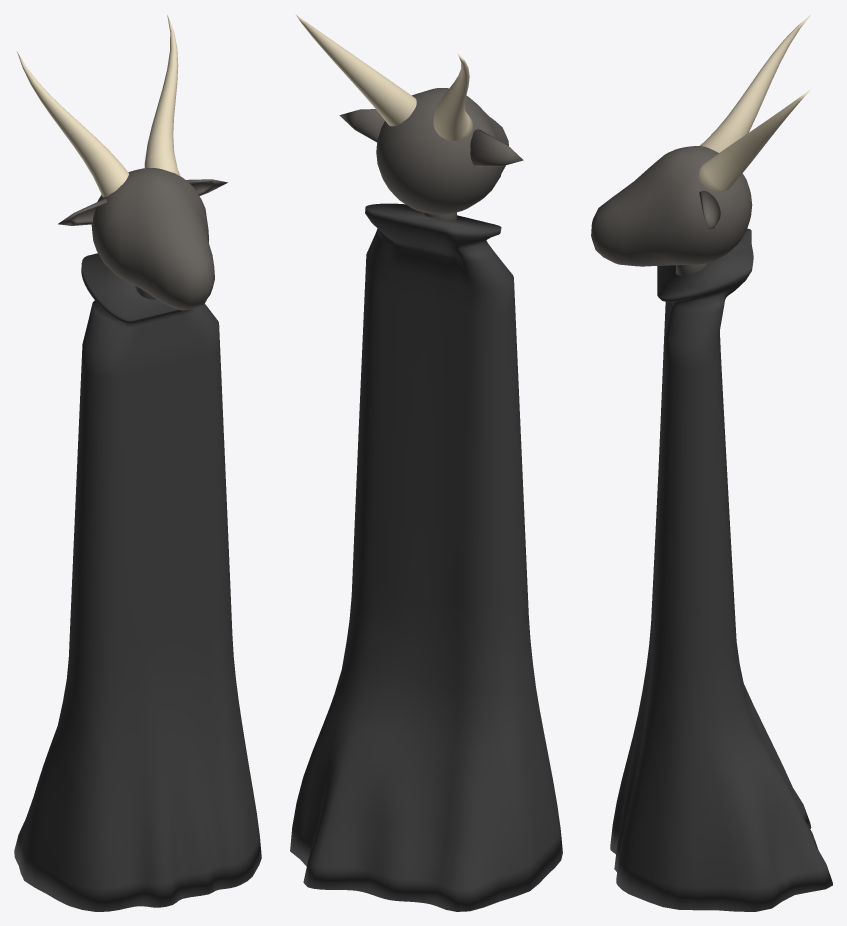
File: PlayerAnomaly.fbx
3 renders of one model, left to right at view 1: azimuth 30°, elevation 25°; view 2: azimuth 150°, elevation 25°; view 3: azimuth 270°, elevation 25°, orthographic. The views are drawn at different scales.
Visible parts, largest first — view 1: Coat, Head, Horn, Ears; view 2: Coat, Head, Horn, Ears; view 3: Coat, Head, Horn, Ears.
Boxes of the visible parts, left/top/right/bottom form: Coat: left=14, top=253, right=261, bottom=911; Head: left=91, top=168, right=214, bottom=310; Horn: left=17, top=15, right=180, bottom=196; Ears: left=58, top=179, right=227, bottom=225; Coat: left=290, top=203, right=562, bottom=911; Head: left=376, top=88, right=508, bottom=214; Horn: left=295, top=14, right=472, bottom=140; Ears: left=339, top=109, right=523, bottom=166; Coat: left=610, top=228, right=832, bottom=911; Head: left=591, top=146, right=752, bottom=266; Horn: left=698, top=15, right=810, bottom=192; Ears: left=699, top=190, right=720, bottom=229.
Bounding box in the file's own units: 61.79 × 222 × 60.34.
